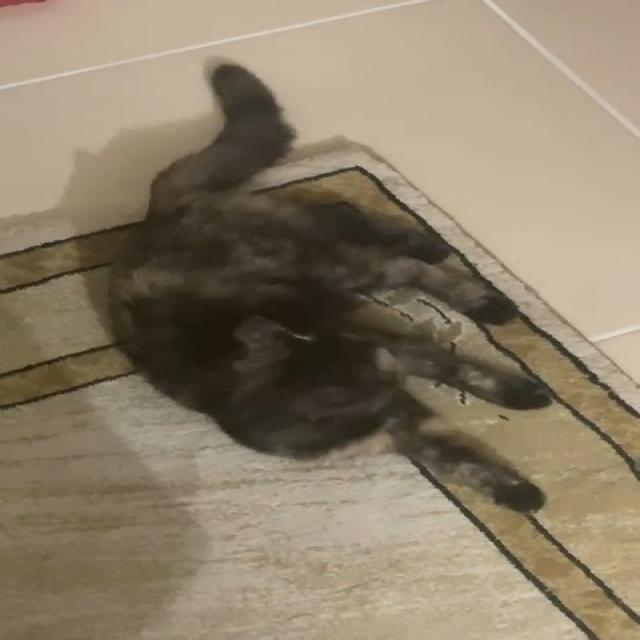authorized: (104, 56, 552, 514)
